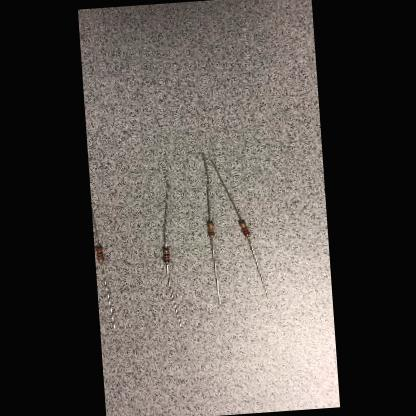resistor: (238, 219, 249, 236), (96, 245, 102, 262), (207, 222, 214, 236), (162, 247, 168, 263)
wire: (209, 158, 240, 222), (247, 235, 268, 300), (165, 262, 181, 328), (100, 262, 114, 329), (158, 180, 172, 246), (200, 152, 210, 220), (210, 237, 219, 304), (90, 207, 98, 245)
